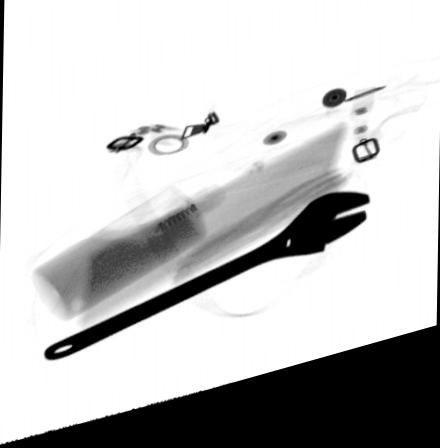Wrench: (42, 209, 373, 365)
